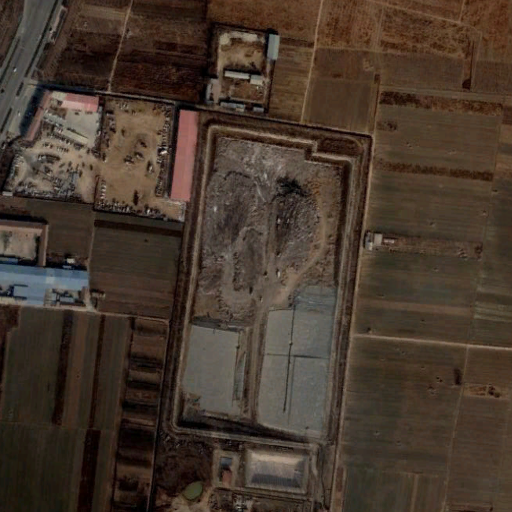lf: (174, 127, 358, 448)
